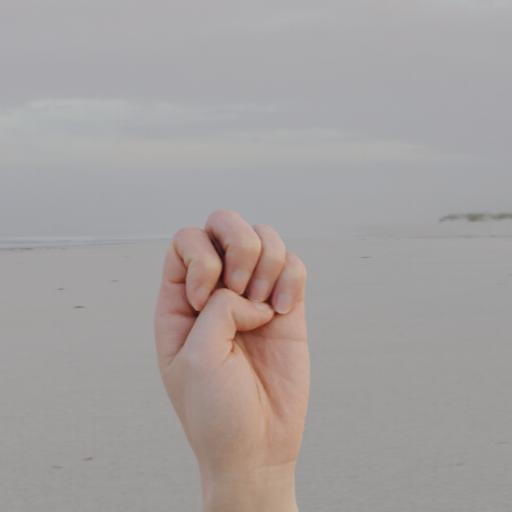E: (114, 188, 336, 512)
